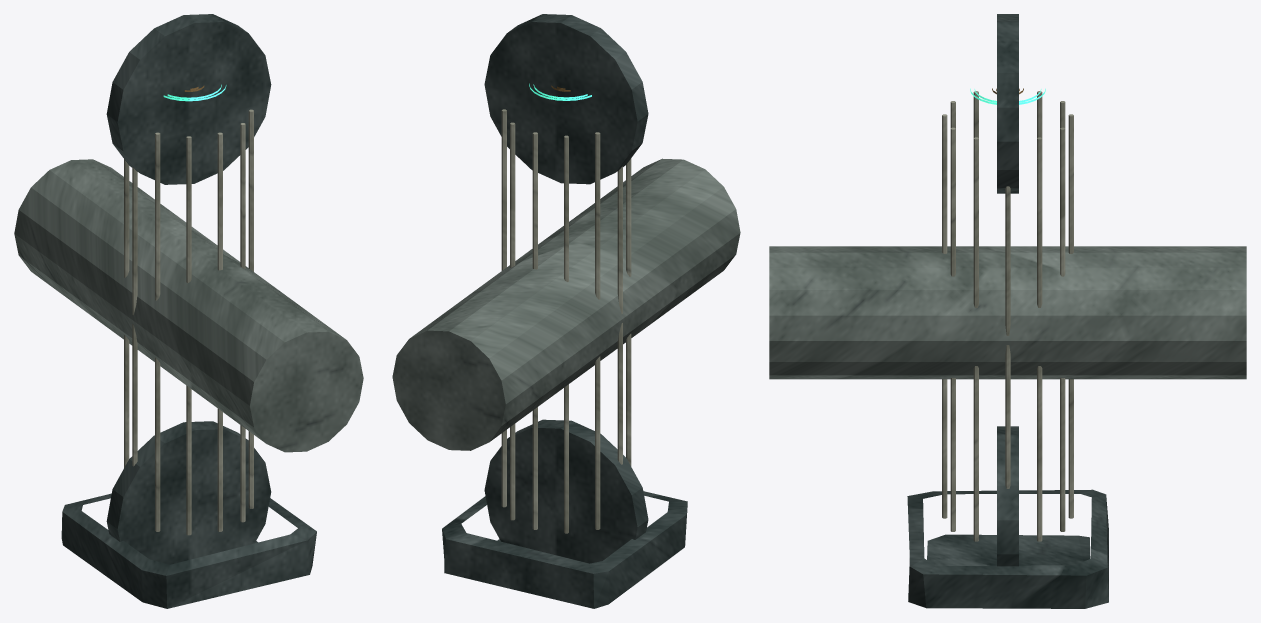
Rendered from 0287_fluted_column_12.glb.
The picture shows the model from 3 angles, left to right: view 1: azimuth 30°, elevation 25°; view 2: azimuth 150°, elevation 25°; view 3: azimuth 270°, elevation 25°; orthographic projection.
Visible parts, largest first — view 1: stone_dark, stone, stone_light; view 2: stone_dark, stone, stone_light; view 3: stone, stone_dark, stone_light.
Part boxes in pixels (box(x1,y1,x2,y2)): stone_dark: box(61, 14, 316, 608); stone: box(14, 159, 363, 452); stone_light: box(124, 109, 253, 535); stone_dark: box(442, 14, 687, 608); stone: box(392, 158, 740, 450); stone_light: box(501, 109, 631, 533); stone: box(769, 246, 1246, 379); stone_dark: box(907, 14, 1108, 608); stone_light: box(942, 91, 1073, 541).
Size of the model in its own units: 1.26 by 4.01 by 3.02.
Materials: 5 (5 with a texture image).
